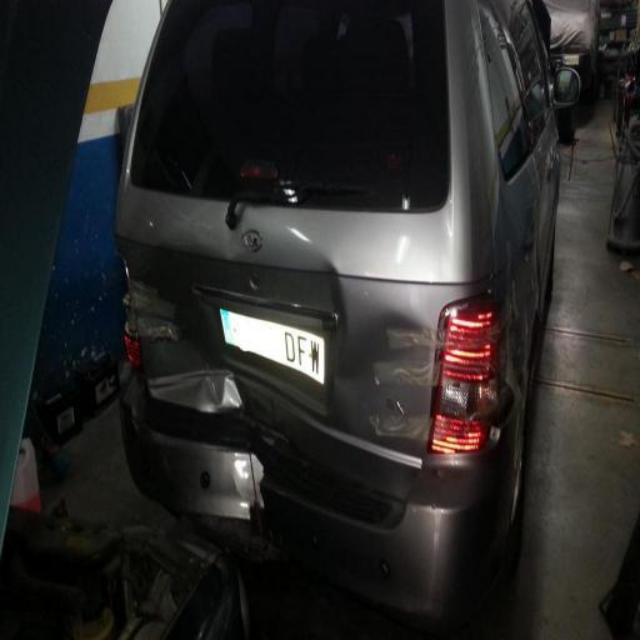crack: (212, 206, 246, 263)
dent: (263, 232, 364, 341)
dislocated part: (119, 249, 424, 522)
